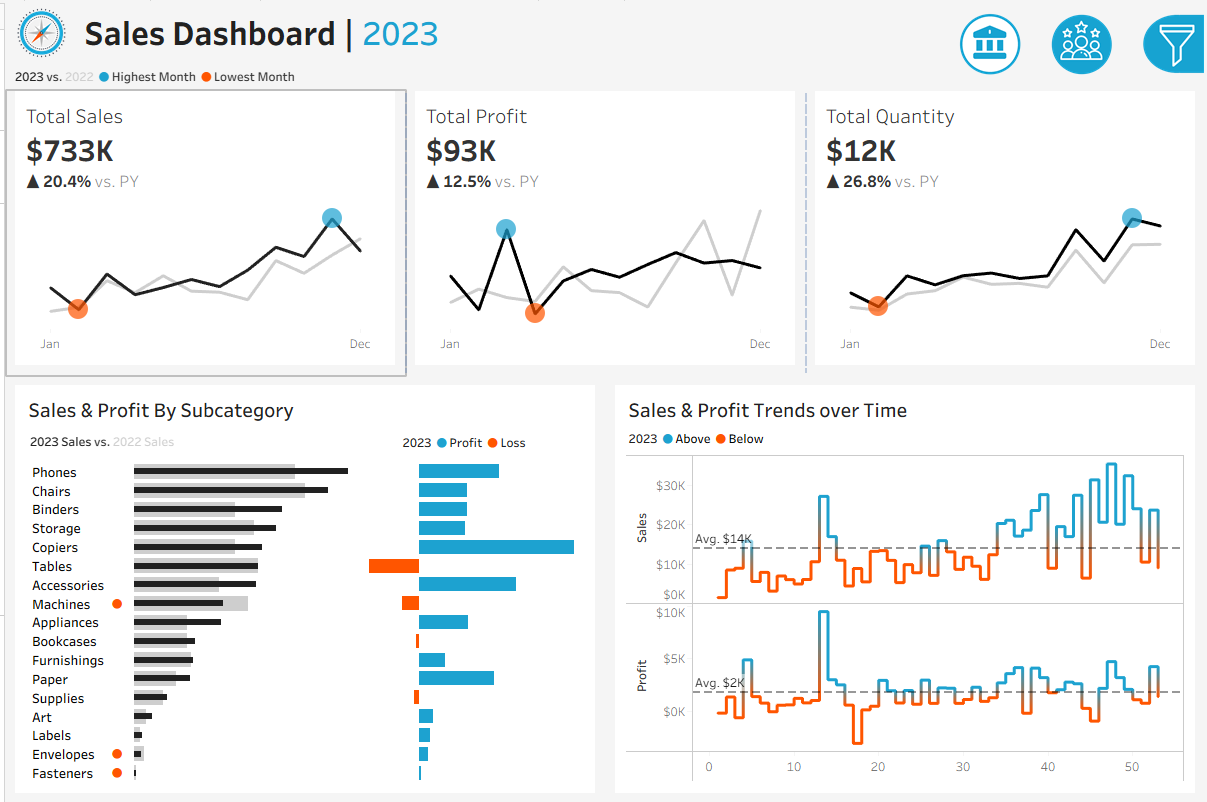

What the dashboard file says about the page in this screenshot:
{"tool":"tableau","page":{"name":"Sales Dashboard","canvas":[1200,800],"ordinal":0},"visuals":[{"type":"image","param":"C:/Users/admin/Desktop/Projects/tableau/tableau-ultimate-course-main/projects/sa","box":[3,3,63,43]},{"type":"text","box":[66,3,851,43]},{"type":"dashboard-object","box":[941,9,94,43]},{"type":"dashboard-object","box":[1035,9,93,43]},{"type":"blank","box":[969,10,219,62]},{"type":"worksheet","title":"Legend KPI","mark":"Automatic","box":[3,46,1194,38]},{"type":"text","box":[969,72,219,34]},{"type":"worksheet","title":"KPI Sales","mark":"Automatic","rows":["Calculation_0180059703394304"],"cols":["Order Date"],"box":[3,84,398,265]},{"type":"worksheet","title":"KPI Profit","mark":"Line","rows":["Min/max Sales (copy)_0289186381877250"],"cols":["Order Date"],"box":[401,84,398,265]},{"type":"worksheet","title":"KPI Quantity","mark":"Line","rows":["Min/max Profit (copy)_0289186393411603"],"cols":["Order Date"],"box":[799,84,398,265]},{"type":"parameter","param":"[Parameters].[Parameter 0463733325336579]","box":[969,106,219,52]},{"type":"blank","box":[969,158,219,82]},{"type":"text","box":[969,240,219,30]},{"type":"filter","title":"KPI Sales","param":"[federated.19rzz0x0gfq39x120juhq0qfk9k5].[none:Category:nk]","box":[969,270,219,52]},{"type":"filter","title":"KPI Sales","param":"[federated.19rzz0x0gfq39x120juhq0qfk9k5].[none:Sub-Category:nk]","box":[969,322,219,77]},{"type":"text","box":[20,366,563,34]},{"type":"text","box":[617,366,563,34]},{"type":"text","box":[969,399,219,30]},{"type":"worksheet","title":"Legend Subcategory","mark":"Automatic","box":[20,400,411,30]},{"type":"text","box":[431,400,152,30]},{"type":"text","box":[617,400,563,25]},{"type":"worksheet","title":"Weekly Trend","mark":"Automatic","rows":["Calculation_0463733323988992","CY Sales (copy)_0289186381086720"],"cols":["Order Date"],"box":[617,425,563,355]},{"type":"filter","title":"KPI Sales","param":"[federated.19rzz0x0gfq39x120juhq0qfk9k5].[none:Region:nk]","box":[969,429,219,52]},{"type":"worksheet","title":"Subcategory Comparison","mark":"Bar","rows":["Sub-Category","Calculation_0289186403885078"],"cols":["CY Sales (copy)_0463733324640257","Calculation_0463733323988992","CY Sales (copy)_0289186381086720"],"box":[20,430,563,349.9]},{"type":"filter","title":"KPI Sales","param":"[federated.19rzz0x0gfq39x120juhq0qfk9k5].[none:State:nk]","box":[969,481,219,52]},{"type":"filter","title":"KPI Sales","param":"[federated.19rzz0x0gfq39x120juhq0qfk9k5].[none:City:nk]","box":[969,533,219,52]}]}

Visuals, with their boxes in screenshot pixels (x1, y1, x2, y2), scaled from the page's 1200x800 canvas onto the 1207x802 screenshot:
image: <bbox>3, 3, 66, 46</bbox>
text: <bbox>66, 3, 922, 46</bbox>
dashboard-object: <bbox>946, 9, 1041, 52</bbox>
dashboard-object: <bbox>1041, 9, 1135, 52</bbox>
blank: <bbox>975, 10, 1195, 72</bbox>
"Legend KPI" worksheet: <bbox>3, 46, 1204, 84</bbox>
text: <bbox>975, 72, 1195, 106</bbox>
"KPI Sales" worksheet: <bbox>3, 84, 403, 350</bbox>
"KPI Profit" worksheet (Line marks): <bbox>403, 84, 804, 350</bbox>
"KPI Quantity" worksheet (Line marks): <bbox>804, 84, 1204, 350</bbox>
parameter: <bbox>975, 106, 1195, 158</bbox>
blank: <bbox>975, 158, 1195, 241</bbox>
text: <bbox>975, 241, 1195, 271</bbox>
"KPI Sales" filter: <bbox>975, 271, 1195, 323</bbox>
"KPI Sales" filter: <bbox>975, 323, 1195, 400</bbox>
text: <bbox>20, 367, 586, 401</bbox>
text: <bbox>621, 367, 1187, 401</bbox>
text: <bbox>975, 400, 1195, 430</bbox>
"Legend Subcategory" worksheet: <bbox>20, 401, 434, 431</bbox>
text: <bbox>434, 401, 586, 431</bbox>
text: <bbox>621, 401, 1187, 426</bbox>
"Weekly Trend" worksheet: <bbox>621, 426, 1187, 782</bbox>
"KPI Sales" filter: <bbox>975, 430, 1195, 482</bbox>
"Subcategory Comparison" worksheet (Bar marks): <bbox>20, 431, 586, 782</bbox>
"KPI Sales" filter: <bbox>975, 482, 1195, 534</bbox>
"KPI Sales" filter: <bbox>975, 534, 1195, 586</bbox>
